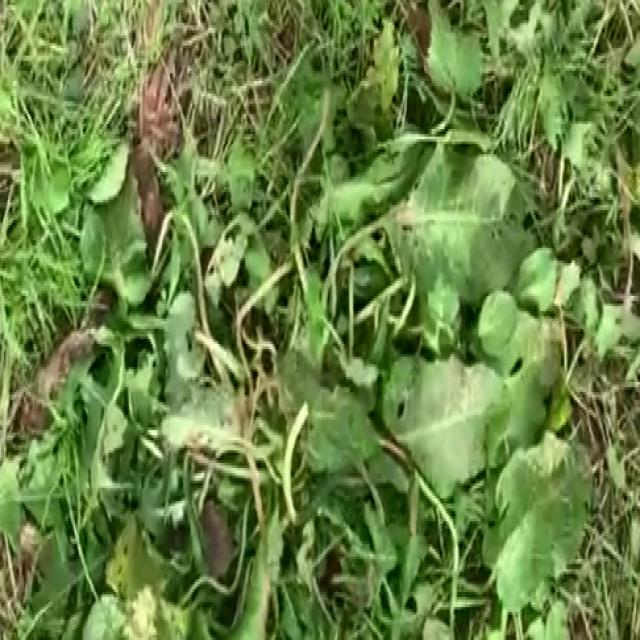organic waste: (58, 60, 621, 640)
